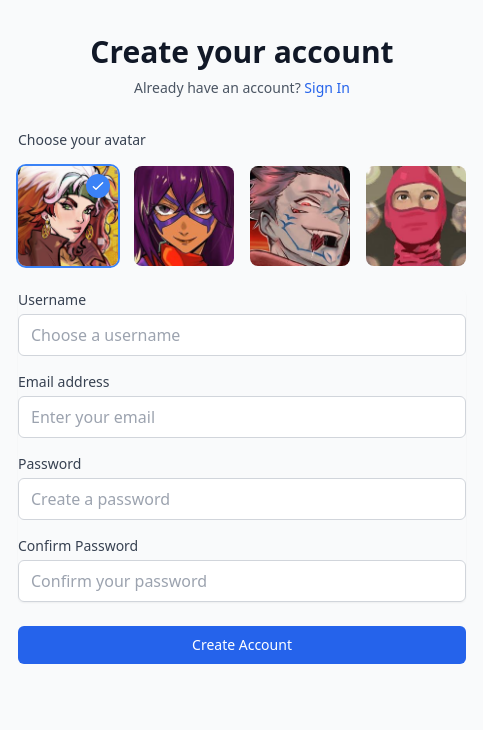
Test: Register Component › displays error when password do not match
The width and height of the screenshot is (483, 730).
// Fill in form with mismatched passwords
Type "testuser" into the field labelled "Username" at x=242, y=335, box [18,314,466,356]
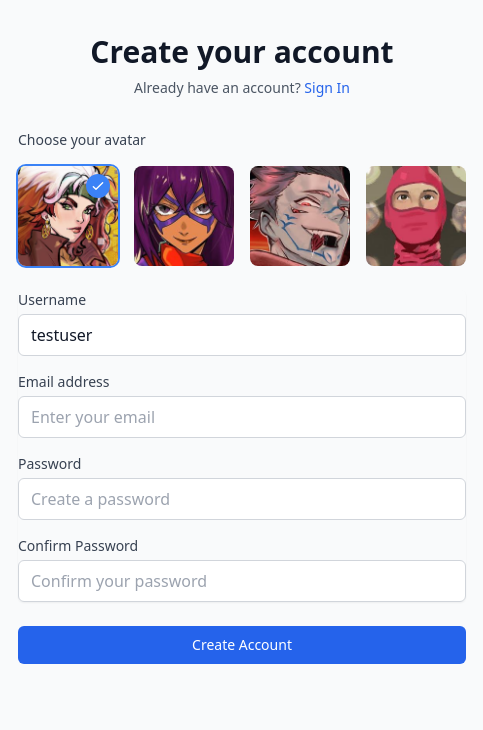
Type "test@example.com" into the field labelled "Email address" at x=242, y=417, box [18,396,466,438]
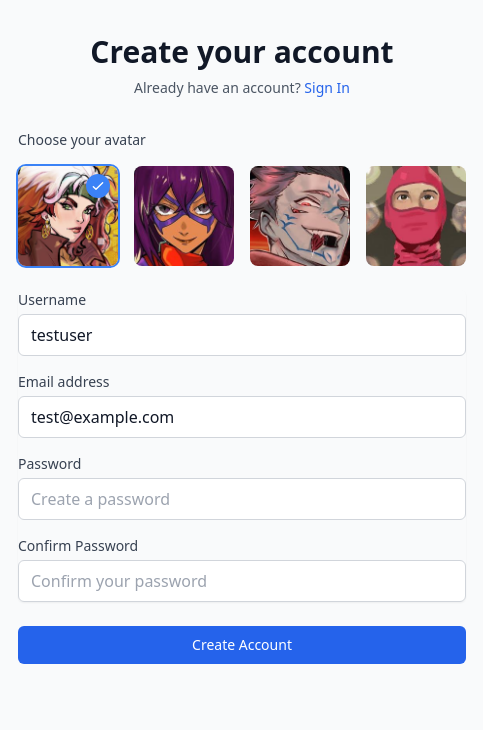
Type "password123" into the password field labelled "Password" at x=242, y=499, box [18,478,466,520]
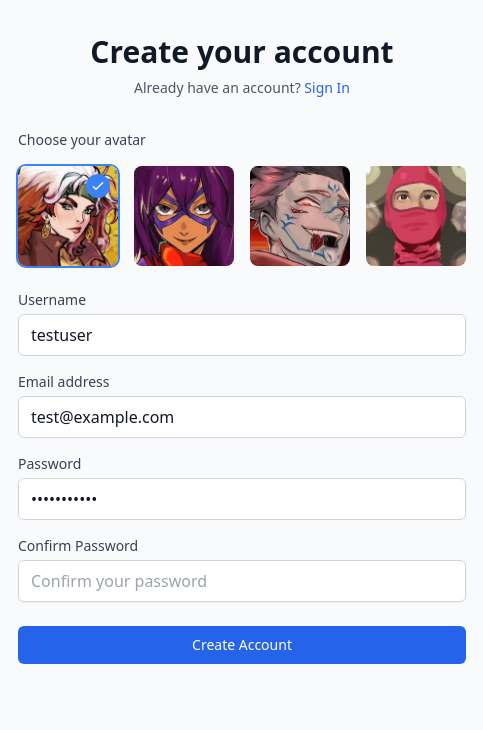
Type "password124" into the password field labelled "Confirm Password" at x=242, y=581, box [18,560,466,602]
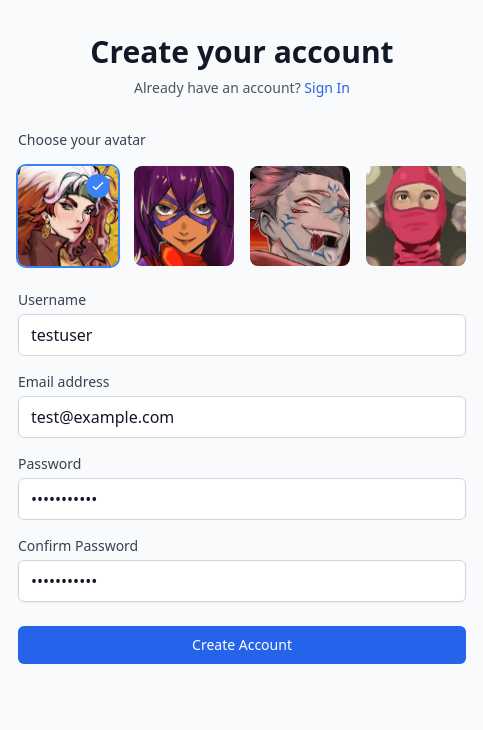
// Submit form
Click the button "Create Account" at x=242, y=645, box [18,626,466,664]
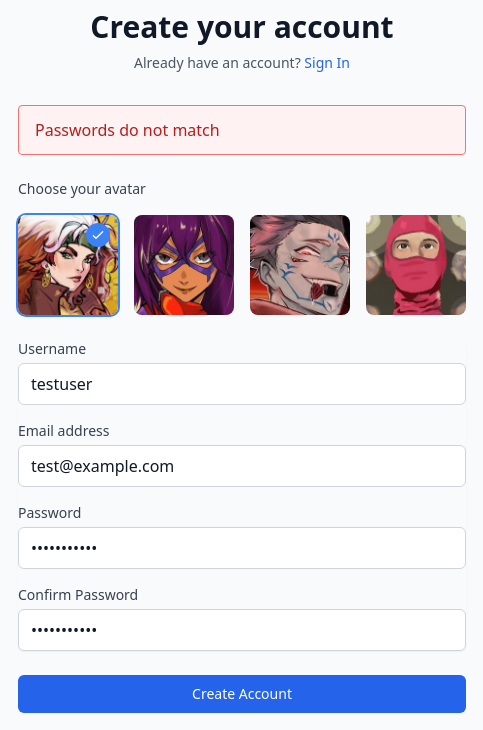
Expected: the text "Passwords do not match" is shown, [18,105,466,155]
